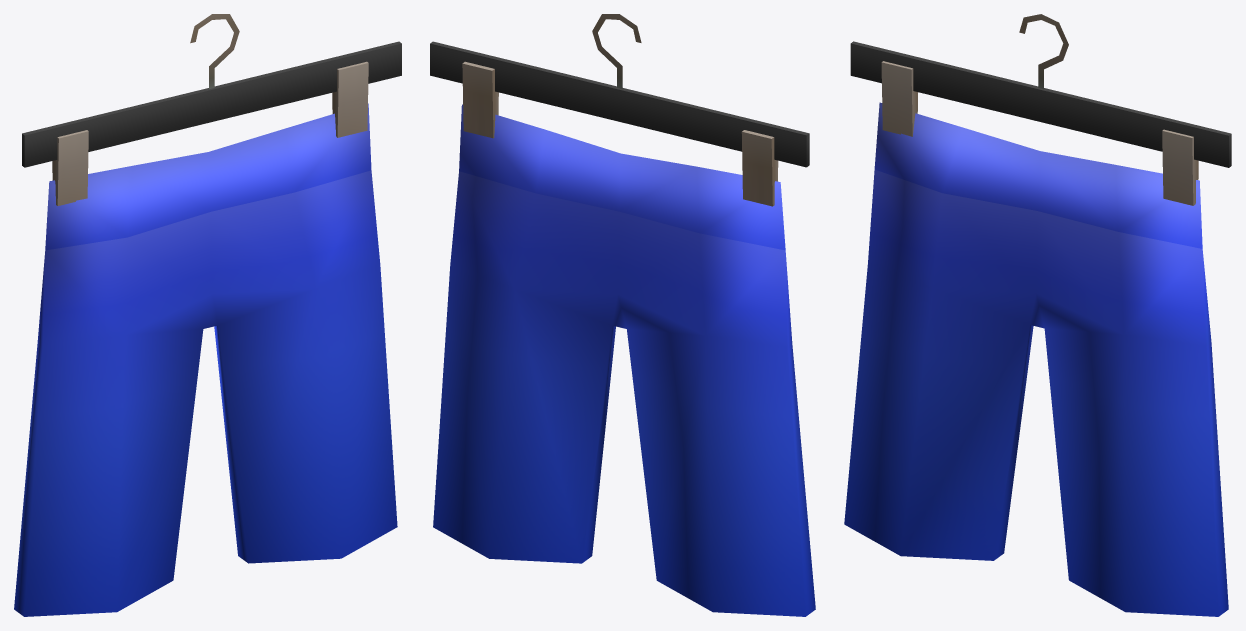
Rendered from Hang_Pants_01.FBX.
3 views of the same model, side by side, from view 1: azimuth 30°, elevation 25°; view 2: azimuth 150°, elevation 25°; view 3: azimuth 330°, elevation 25° (orthographic).
Parts seen in each view (by area): view 1: Hang_Pants_01; view 2: Hang_Pants_01; view 3: Hang_Pants_01.
Part boxes in pixels (x1=…): Hang_Pants_01: x1=14, y1=14, x2=401, y2=616; Hang_Pants_01: x1=430, y1=14, x2=815, y2=616; Hang_Pants_01: x1=844, y1=14, x2=1231, y2=616.
Bounding box in the file's own units: 0.4494 × 0.0961 × 0.625.
